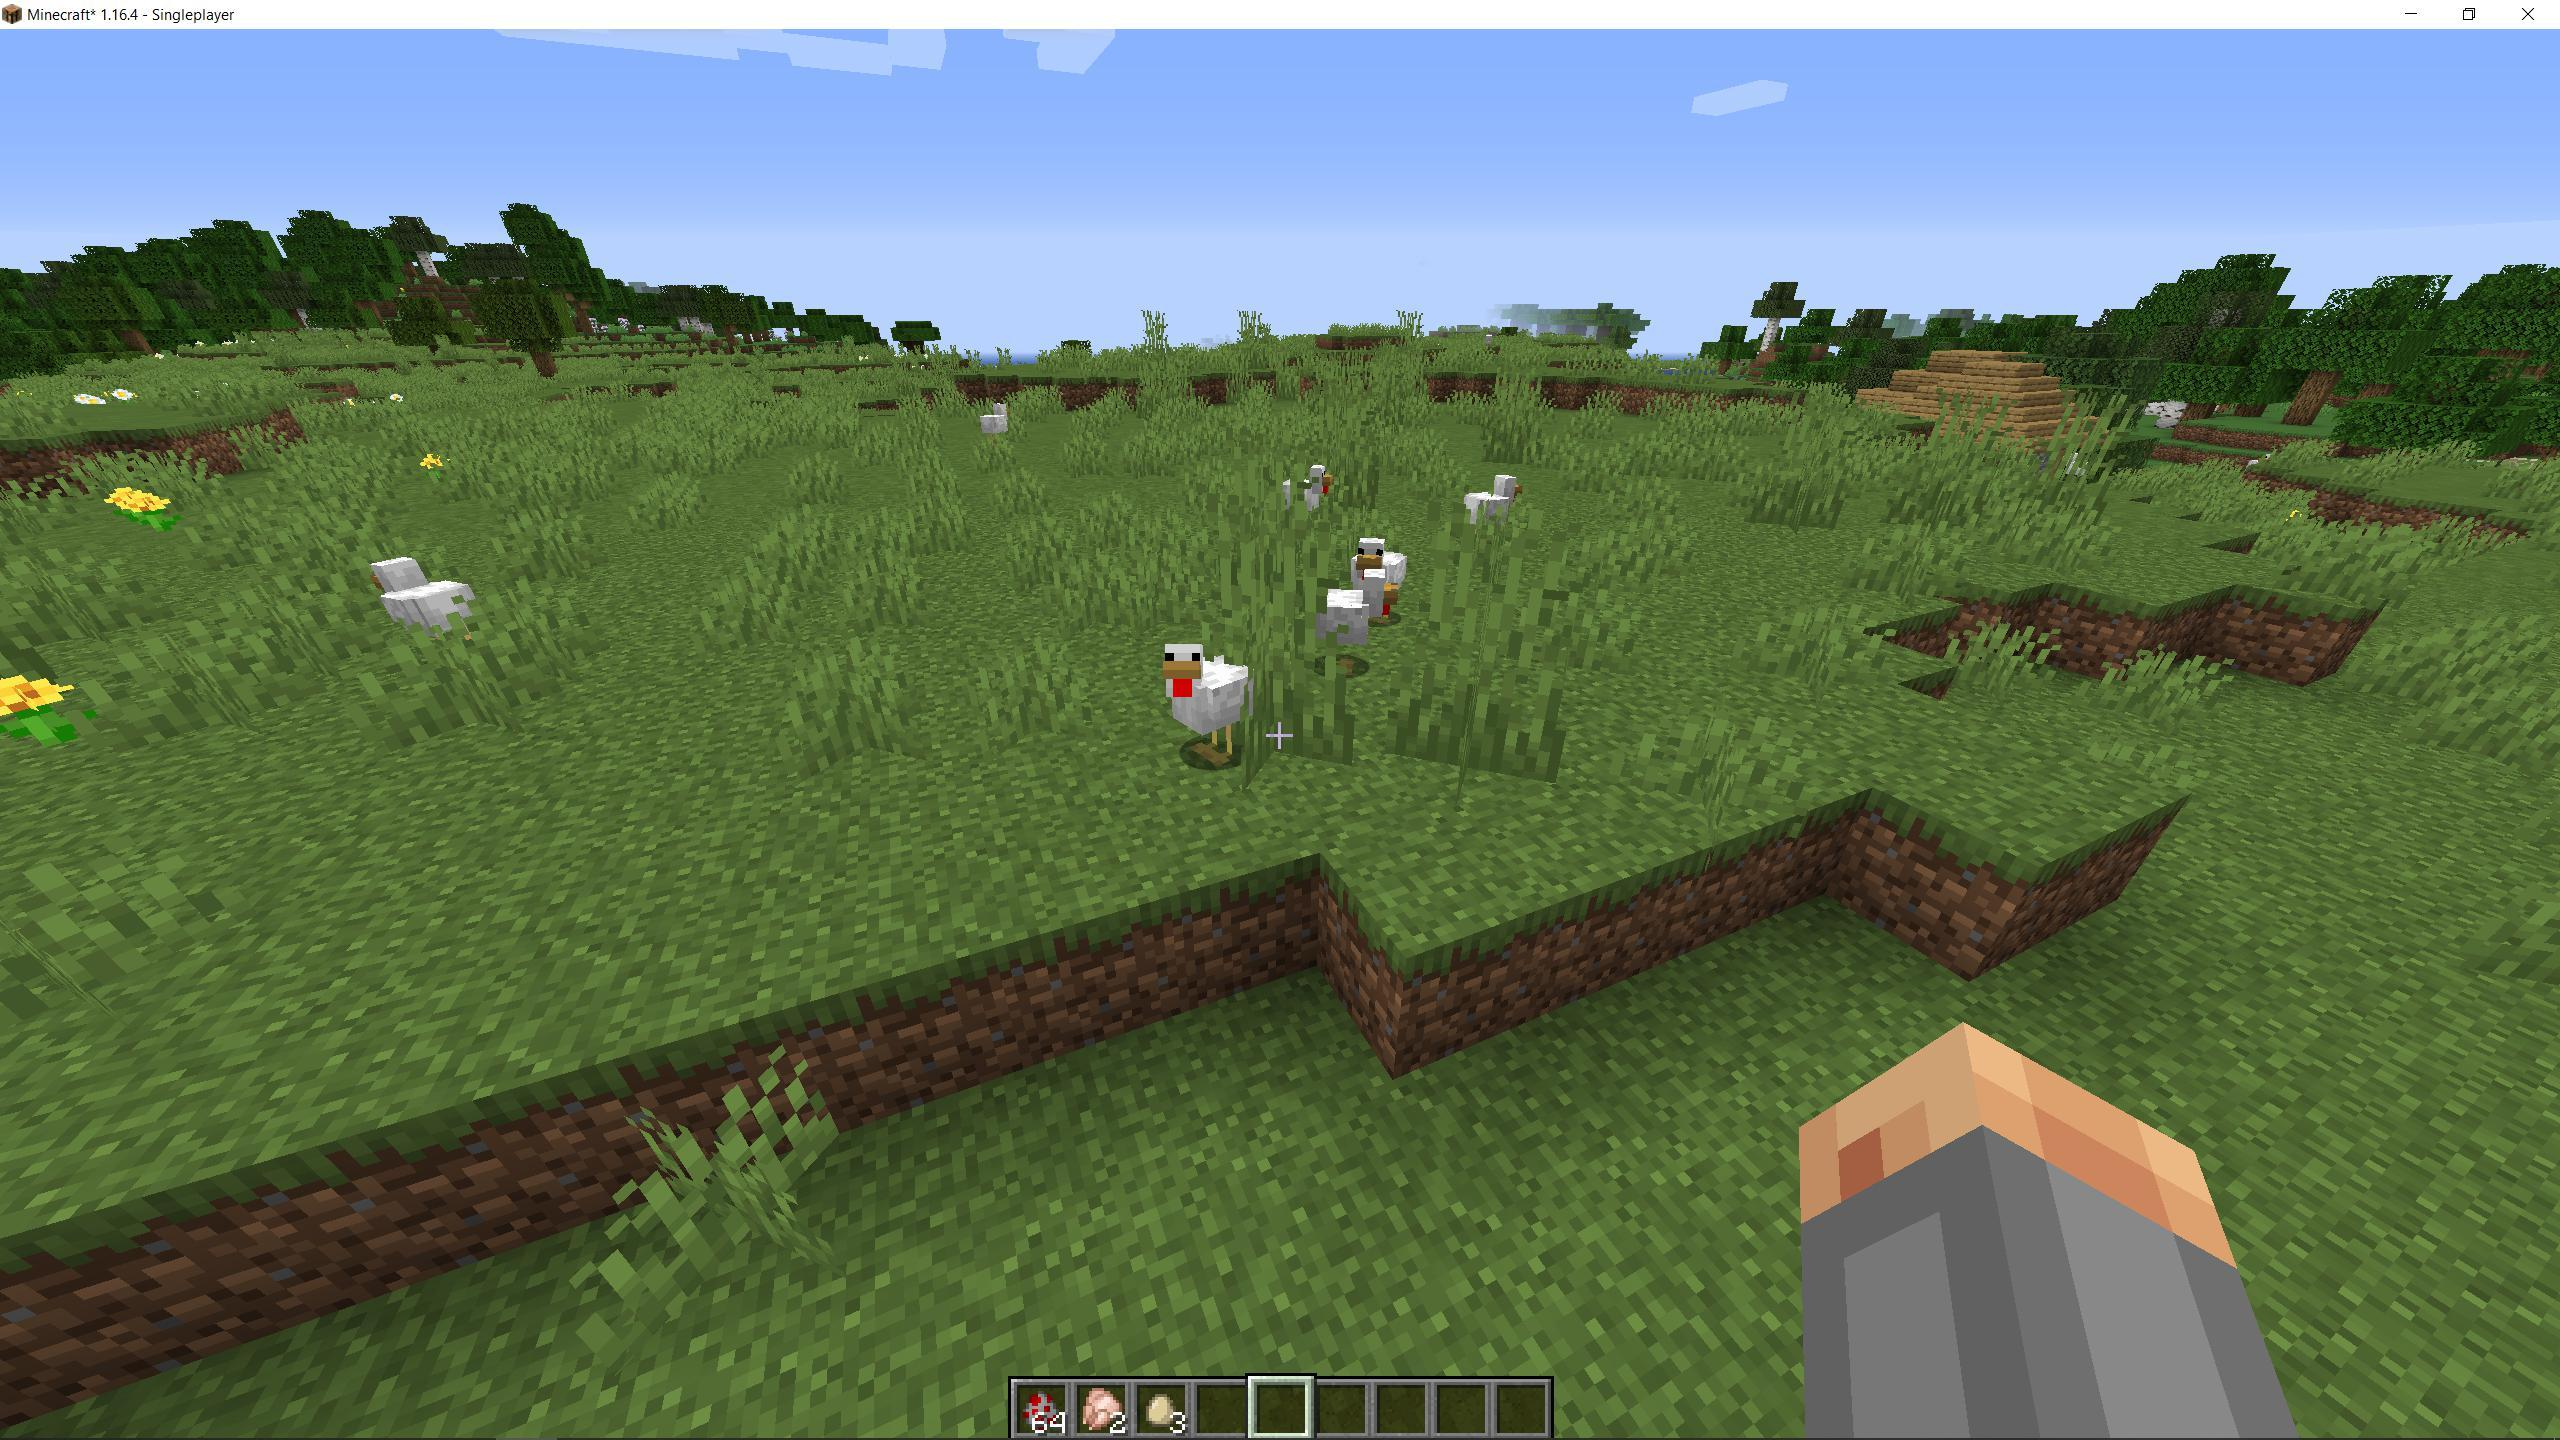chicken: (369, 550, 492, 666), (1160, 645, 1255, 770), (1319, 571, 1398, 673), (1349, 535, 1417, 608), (1278, 462, 1342, 531), (1466, 469, 1523, 543), (979, 397, 1020, 457)
